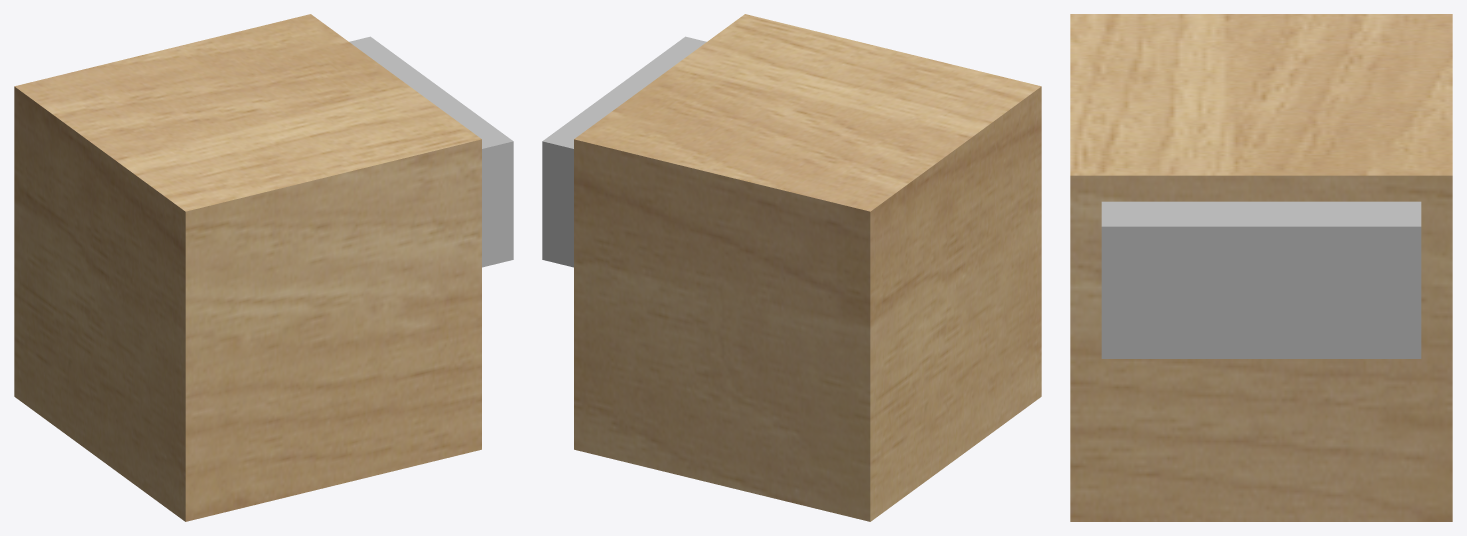
The model's file is bedside.obj.
3 views of the same model, side by side, from view 1: azimuth 30°, elevation 25°; view 2: azimuth 150°, elevation 25°; view 3: azimuth 270°, elevation 25° (orthographic). The views are drawn at different scales.
Parts seen in each view (by area): view 1: Cube, Cube.001; view 2: Cube, Cube.001; view 3: Cube, Cube.001.
Part boxes in pixels (box(x1,y1,x2,y2)): Cube: box(14, 14, 481, 521); Cube.001: box(349, 36, 513, 267); Cube: box(574, 14, 1041, 521); Cube.001: box(542, 36, 706, 267); Cube: box(1070, 14, 1452, 521); Cube.001: box(1101, 201, 1421, 358).
Size of the model in its own units: 3.46 by 3 by 3.
